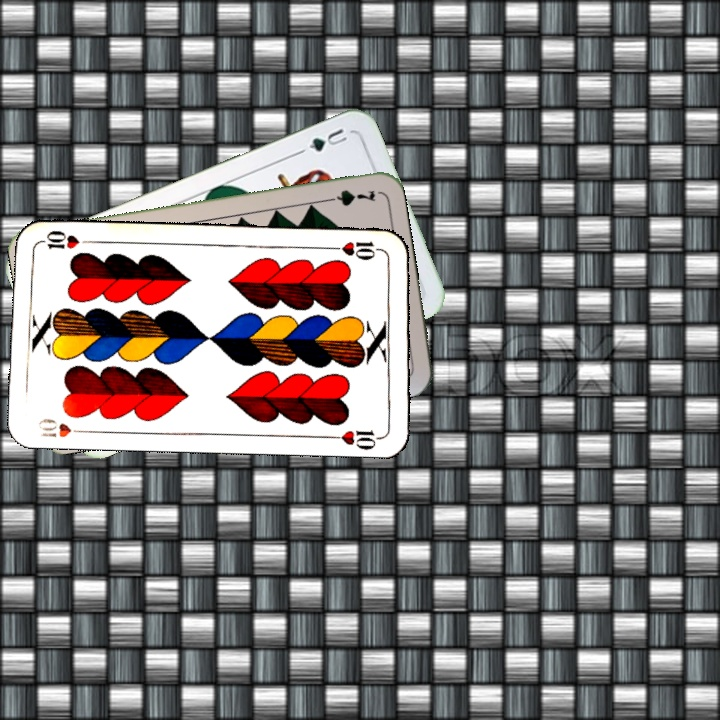G7: (319, 185, 378, 209)
GU: (296, 124, 350, 156)
H10: (34, 414, 92, 440), (328, 237, 387, 262)
